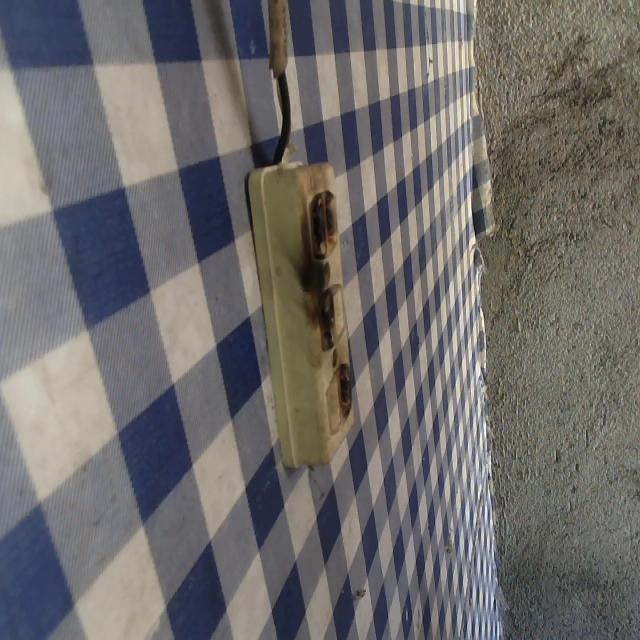-: (298, 184, 347, 260), (314, 284, 341, 353), (331, 364, 357, 420)
